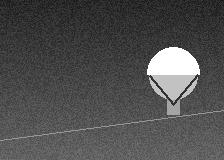helmet: (147, 47, 199, 104)
